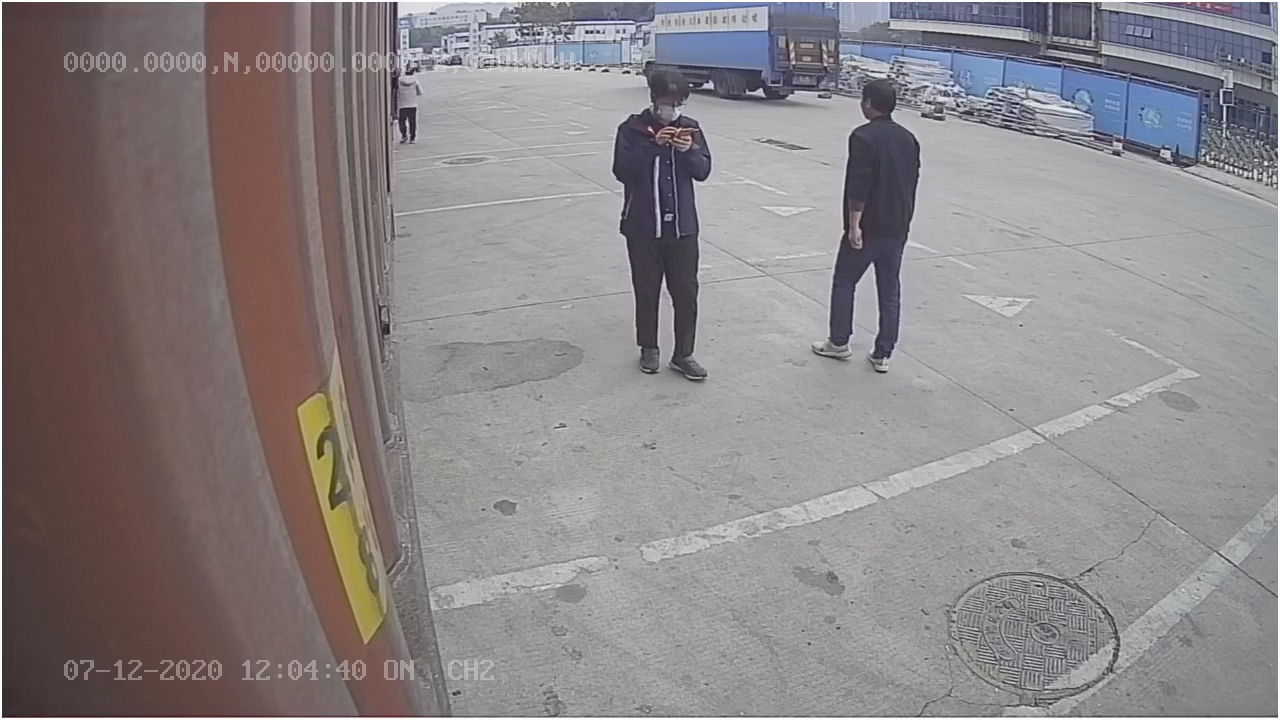person: (812, 76, 923, 367)
